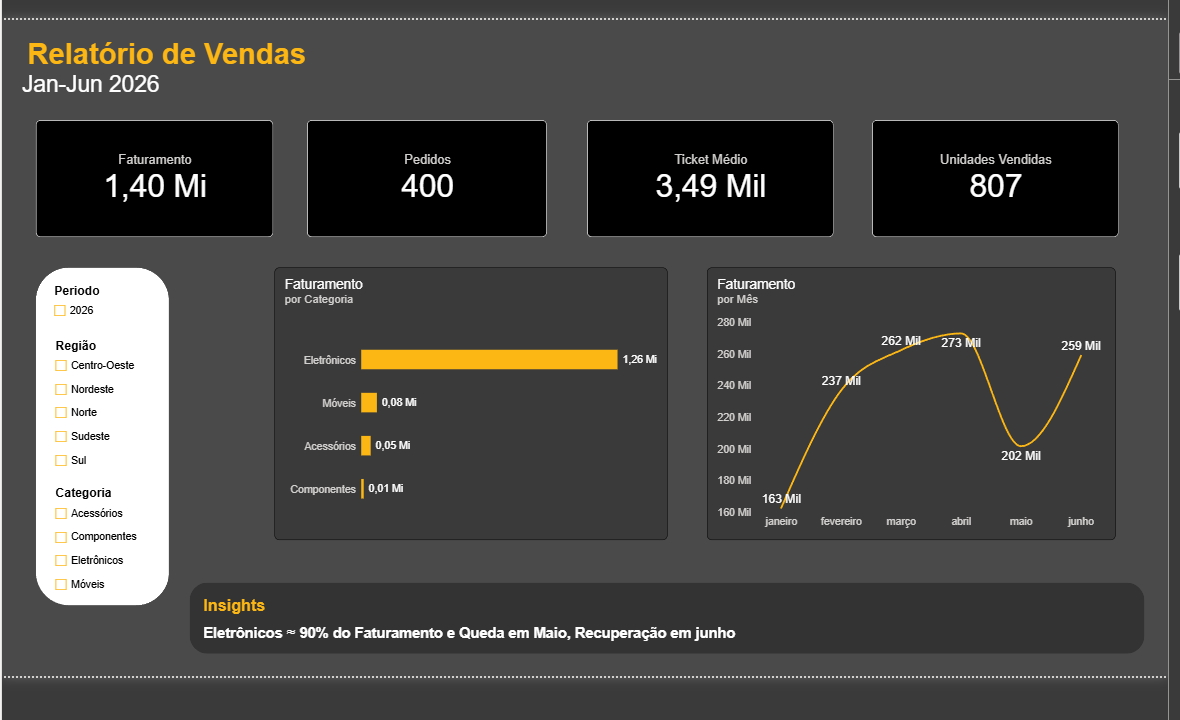

Layout of this report page (visuals, bound fields, positions):
{"tool":"powerbi","page":{"name":"Relatório de vendas","canvas":[1920,1080],"ordinal":0},"visuals":[{"type":"group","id":"g1","title":"Grupo 2","box":[56.5,406.5,219.6,556.5],"z":0},{"type":"shape","box":[308.7,926.2,1572.6,117.3],"z":0,"group":"g3"},{"type":"cardVisual","fields":{"Data":["vendas.Faturamento total"]},"box":[56.5,165.2,391.3,193.5],"z":1000},{"type":"lineChart","title":"Faturamento ","fields":{"Category":["vendas.data_pedido.Variation.Hierarquia de datas.Mês"],"Y":["vendas.Faturamento total"]},"box":[1161.6,407.5,672.5,449.1],"z":1000,"group":"g2"},{"type":"textbox","box":[331.3,948.8,889.2,94.7],"z":1000,"group":"g3"},{"type":"textbox","box":[0,17.4,606.5,84.8],"z":2000,"group":"g4"},{"type":"cardVisual","fields":{"Data":["vendas.Ticket Médio"]},"box":[963,165.2,406.5,193.5],"z":2000},{"type":"shape","box":[56.5,406.5,219.6,556.5],"z":2000,"group":"g1"},{"type":"cardVisual","fields":{"Data":["vendas.Pedidos"]},"box":[502.2,165.2,395.7,193.5],"z":3000},{"type":"barChart","title":"Faturamento ","fields":{"Category":["produtos.categoria"],"Y":["vendas.Faturamento total"]},"box":[448.7,407.5,646.9,449.1],"z":3000,"group":"g2"},{"type":"cardVisual","fields":{"Data":["vendas.Unidades Vendidas"]},"box":[1432.6,165.2,406.5,193.5],"z":4000},{"type":"group","id":"g2","title":"Grupo 1","box":[448.7,407.5,1385.3,448.7],"z":5000},{"type":"group","id":"g3","title":"Grupo 3","box":[308.7,926.2,1572.6,117.3],"z":6000},{"type":"group","id":"g4","title":"Grupo 4","box":[0,17.4,606.5,147.8],"z":7000},{"type":"textbox","box":[32.6,84.8,358.7,80.4],"z":7000,"group":"g4"},{"type":"slicer","fields":{"Values":["clientes.regiao"]},"box":[80.4,524.3,171.4,224.3],"z":8000,"group":"g1"},{"type":"slicer","fields":{"Values":["produtos.categoria"]},"box":[81.5,765.8,155.3,182.4],"z":9000,"group":"g1"},{"type":"slicer","fields":{"Values":["vendas.data_pedido.Variation.Hierarquia de datas.Ano"]},"box":[79.7,432.3,155.3,73.7],"z":10000,"group":"g1"}]}

Visuals, with their boxes on the page's 1920x1080 design canvas (x1, y1, x2, y2). These are canvas units, not pixel positions in the 1180x720 screenshot, which may show the page scaled, cropped or inside an application window:
"Grupo 2" group: (56,406,276,963)
shape: (309,926,1881,1044)
cardVisual - vendas.Faturamento total: (56,165,448,359)
"Faturamento " lineChart: (1162,408,1834,857)
textbox: (331,949,1220,1044)
textbox: (0,17,606,102)
cardVisual - vendas.Ticket Médio: (963,165,1370,359)
shape: (56,406,276,963)
cardVisual - vendas.Pedidos: (502,165,898,359)
"Faturamento " barChart: (449,408,1096,857)
cardVisual - vendas.Unidades Vendidas: (1433,165,1839,359)
"Grupo 1" group: (449,408,1834,856)
"Grupo 3" group: (309,926,1881,1044)
"Grupo 4" group: (0,17,606,165)
textbox: (33,85,391,165)
slicer - clientes.regiao: (80,524,252,749)
slicer - produtos.categoria: (82,766,237,948)
slicer - vendas.data_pedido.Variation.Hierarquia de datas.Ano: (80,432,235,506)
